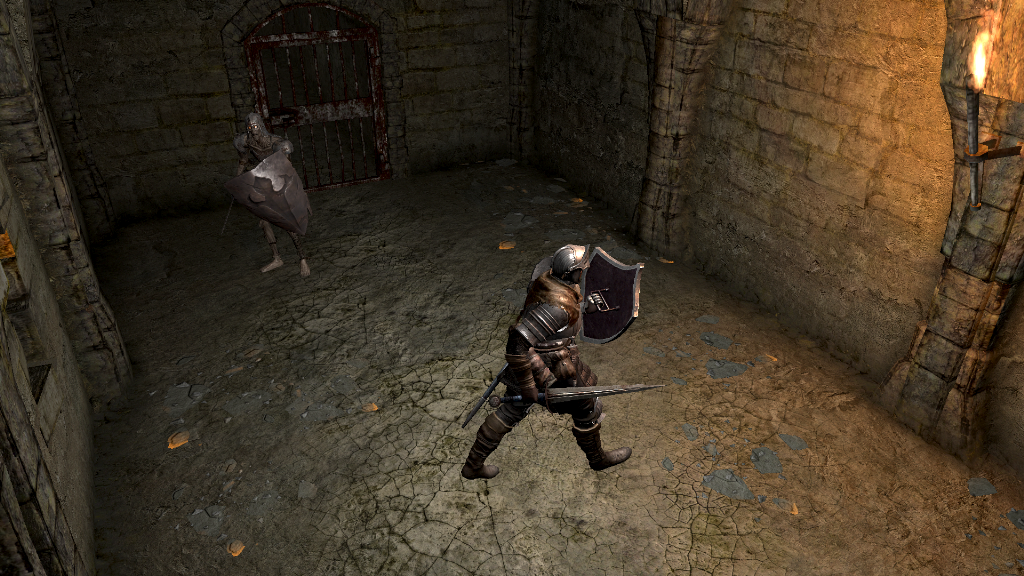player: (460, 243, 668, 480)
undeadSoldier: (232, 111, 312, 277)
